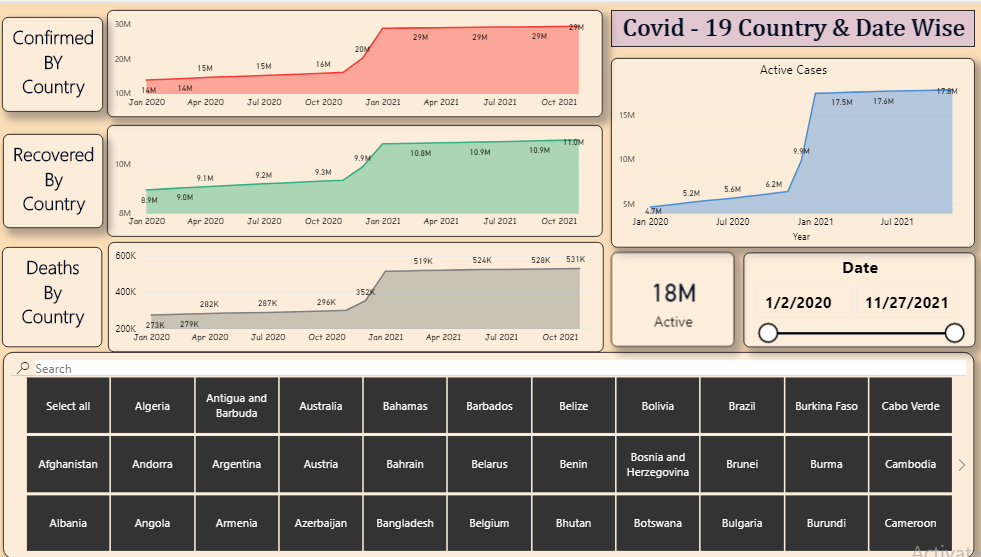

Layout of this report page (visuals, bound fields, positions):
{"tool":"powerbi","page":{"name":"Covid Country Cases","canvas":[1280,720],"ordinal":1},"visuals":[{"type":"textbox","box":[794.5,8.3,471.7,48.3],"z":0},{"type":"areaChart","title":"Confirmed by Year and Month","fields":{"Category":["covid_cases_data.Date.Variation.Date Hierarchy.Year","covid_cases_data.Date.Variation.Date Hierarchy.Month"],"Y":["Max(covid_cases_data.Confirmed)"]},"box":[140.7,8.3,642.8,139.3],"z":1000},{"type":"areaChart","fields":{"Category":["covid_cases_data.Date.Variation.Date Hierarchy.Year","covid_cases_data.Date.Variation.Date Hierarchy.Month"],"Y":["Max(covid_cases_data.Deaths)"]},"box":[141.1,309.4,643,142.6],"z":2000},{"type":"areaChart","fields":{"Category":["covid_cases_data.Date.Variation.Date Hierarchy.Year","covid_cases_data.Date.Variation.Date Hierarchy.Month"],"Y":["Max(covid_cases_data.Recovered)"]},"box":[140.1,157,643.5,145.3],"z":3000},{"type":"slicer","fields":{"Values":["covid_cases_data.Country"]},"box":[5.7,452,1260.4,268],"z":4000},{"type":"areaChart","title":"Active Cases","fields":{"Category":["covid_cases_data.Date.Variation.Date Hierarchy.Year","covid_cases_data.Date.Variation.Date Hierarchy.Month"],"Y":["covid_cases_data.Active"]},"box":[794.5,70.3,471.7,245.5],"z":5000},{"type":"textbox","box":[4.1,16.6,131,122.8],"z":6000},{"type":"textbox","box":[5.2,168.6,129.7,121.9],"z":7000},{"type":"textbox","box":[4.3,315.1,129.7,129.7],"z":8000},{"type":"slicer","title":"Date","fields":{"Values":["covid_cases_data.Date"]},"box":[965.2,322.2,300.8,122.6],"z":9000},{"type":"card","fields":{"Values":["covid_cases_data.Active"]},"box":[794.1,322.2,159.7,122.6],"z":10000}]}

Visuals, with their boxes in screenshot pixels (x1, y1, x2, y2), scaled from the page's 1280x720 canvas onto the 981x557 screenshot:
textbox: <box>609,6,970,44</box>
"Confirmed by Year and Month" areaChart: <box>108,6,600,114</box>
areaChart - covid_cases_data.Date.Variation.Date Hierarchy.Year x covid_cases_data.Date.Variation.Date Hierarchy.Month: <box>108,239,601,350</box>
areaChart - covid_cases_data.Date.Variation.Date Hierarchy.Year x covid_cases_data.Date.Variation.Date Hierarchy.Month: <box>107,121,601,234</box>
slicer - covid_cases_data.Country: <box>4,350,970,556</box>
"Active Cases" areaChart: <box>609,54,970,244</box>
textbox: <box>3,13,104,108</box>
textbox: <box>4,130,103,225</box>
textbox: <box>3,244,103,344</box>
"Date" slicer: <box>740,249,970,344</box>
card - covid_cases_data.Active: <box>609,249,731,344</box>
